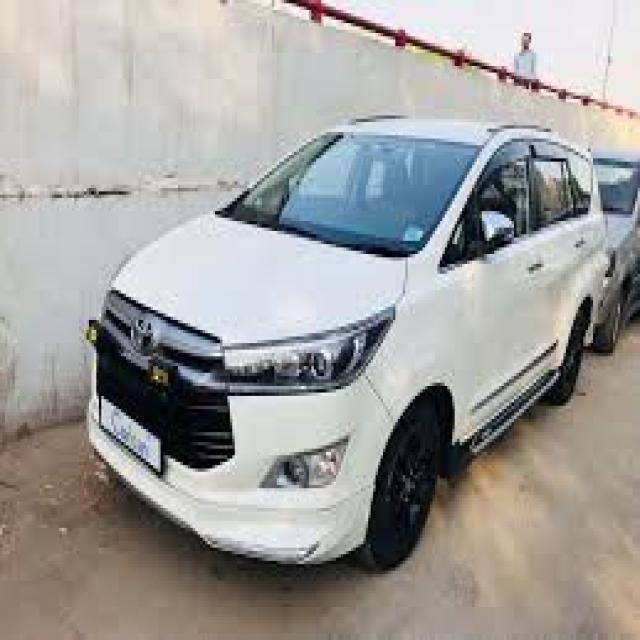light_vehicle: (89, 113, 606, 574)
